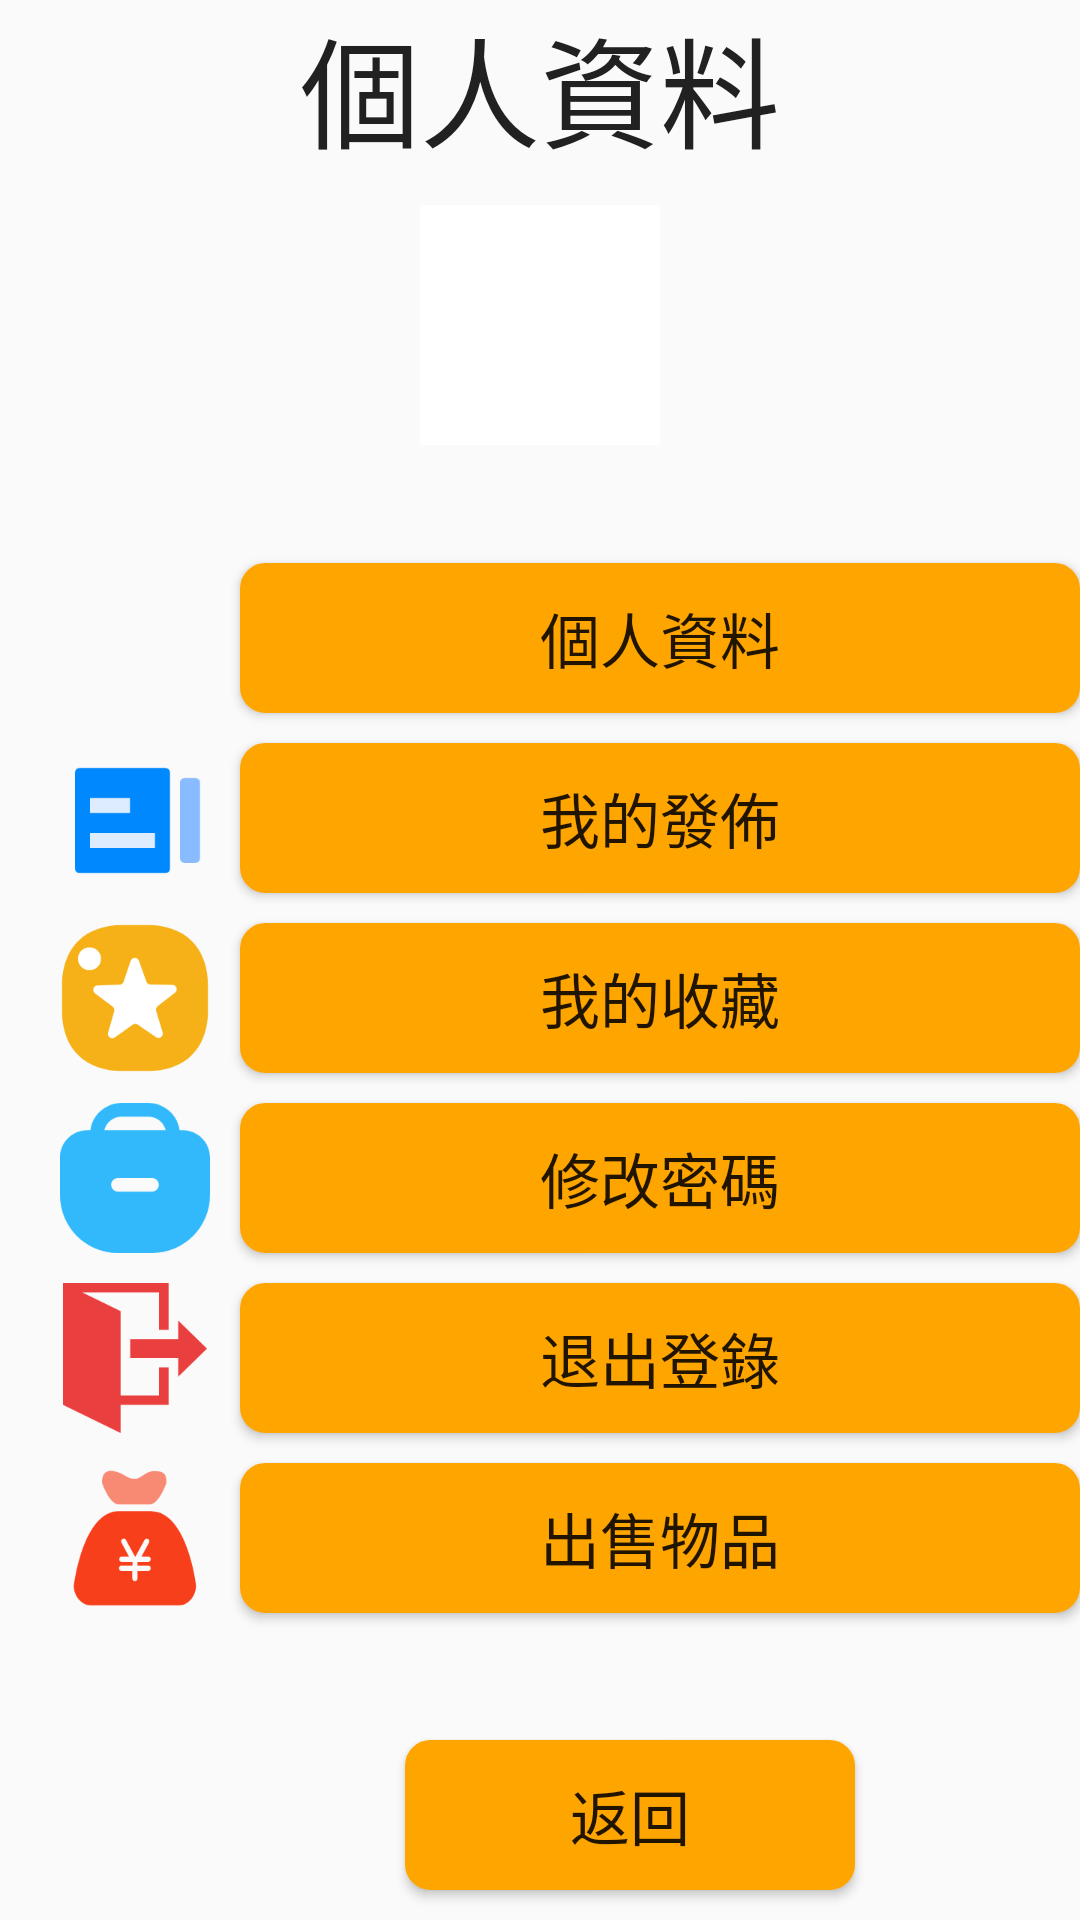

Screen size 1080px x 1920px. Icon name, then its center in pixels as (x=x, y=y):
collection: (x=135, y=998)
myrelease: (x=137, y=820)
password modify: (x=135, y=1178)
